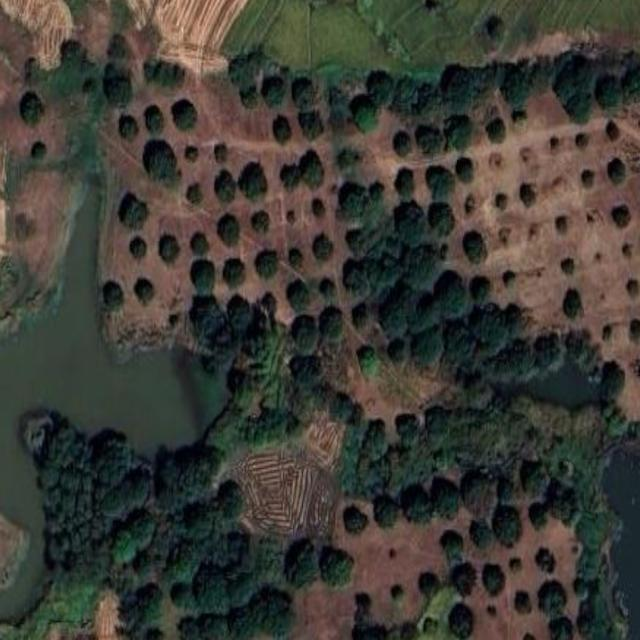Tree: (154, 443, 228, 512), (355, 236, 405, 296), (467, 302, 510, 361), (192, 562, 235, 621), (99, 468, 151, 516), (436, 62, 478, 121), (92, 430, 133, 490), (553, 52, 598, 104), (381, 289, 420, 341), (496, 56, 530, 114), (400, 249, 443, 293), (578, 588, 614, 640), (490, 345, 540, 382), (249, 409, 294, 450), (436, 268, 470, 321), (185, 295, 224, 341), (283, 538, 321, 585), (52, 419, 88, 468), (546, 478, 578, 530), (182, 502, 218, 548), (409, 293, 443, 341), (427, 472, 459, 522), (144, 140, 182, 182), (490, 504, 524, 550), (230, 64, 262, 112), (167, 543, 203, 584), (401, 482, 434, 526), (319, 552, 357, 590), (417, 324, 447, 372), (228, 569, 263, 610), (459, 470, 491, 513), (104, 68, 136, 111), (290, 356, 326, 394), (592, 73, 628, 111), (446, 110, 478, 152), (393, 205, 425, 246), (134, 578, 165, 620), (562, 89, 598, 125), (239, 162, 269, 205), (186, 257, 218, 297), (392, 76, 423, 117), (539, 580, 573, 617), (598, 360, 626, 404), (170, 574, 200, 614), (221, 292, 250, 333), (112, 527, 140, 568), (368, 71, 394, 115), (334, 390, 363, 428), (294, 314, 320, 356), (427, 404, 450, 450), (296, 107, 327, 141), (289, 76, 320, 110), (120, 195, 150, 230), (452, 329, 478, 369), (428, 203, 457, 238), (301, 148, 324, 192), (520, 462, 547, 499), (170, 97, 198, 132), (467, 516, 495, 551), (415, 124, 443, 159), (128, 512, 154, 549), (340, 502, 368, 536), (321, 306, 346, 344), (341, 182, 366, 220), (100, 277, 124, 315), (348, 260, 372, 298), (221, 484, 245, 522), (351, 104, 379, 136), (528, 498, 555, 531), (535, 338, 565, 367), (547, 609, 575, 640), (394, 166, 418, 202), (604, 402, 628, 438), (502, 299, 522, 342), (213, 169, 239, 202), (450, 601, 473, 638), (372, 495, 397, 529), (428, 166, 454, 198), (462, 234, 488, 266), (198, 614, 230, 640), (452, 562, 476, 596), (366, 423, 388, 460), (264, 75, 288, 108), (468, 275, 494, 305), (215, 214, 240, 245), (536, 544, 560, 576), (51, 529, 73, 563), (20, 94, 42, 128), (397, 409, 418, 444), (286, 279, 310, 309), (144, 105, 167, 136), (272, 111, 293, 144), (608, 160, 631, 190), (483, 565, 506, 595), (561, 287, 582, 319), (358, 346, 380, 376), (117, 115, 138, 146), (72, 490, 93, 521), (441, 530, 464, 558), (388, 338, 412, 364), (454, 154, 476, 182), (257, 249, 278, 278), (131, 274, 154, 300), (224, 258, 246, 285), (314, 232, 334, 261), (420, 570, 440, 599), (487, 117, 508, 144), (519, 181, 540, 208), (40, 462, 61, 489), (284, 161, 302, 192), (230, 363, 248, 394), (59, 510, 78, 539), (178, 615, 200, 640), (160, 234, 180, 260), (60, 465, 80, 491), (613, 201, 631, 229), (496, 477, 515, 502), (128, 235, 148, 258), (250, 211, 270, 234), (192, 230, 210, 255), (559, 252, 577, 277), (59, 488, 76, 514), (263, 290, 282, 313), (395, 133, 411, 159), (394, 583, 410, 609), (140, 622, 163, 640), (606, 119, 622, 144), (32, 139, 50, 160), (322, 280, 338, 302), (289, 249, 305, 271), (556, 214, 571, 236), (84, 74, 99, 96), (313, 198, 326, 222), (371, 180, 386, 200), (76, 523, 91, 542), (216, 143, 230, 163), (187, 148, 201, 164), (627, 277, 640, 294), (288, 208, 300, 226), (630, 316, 640, 336)
